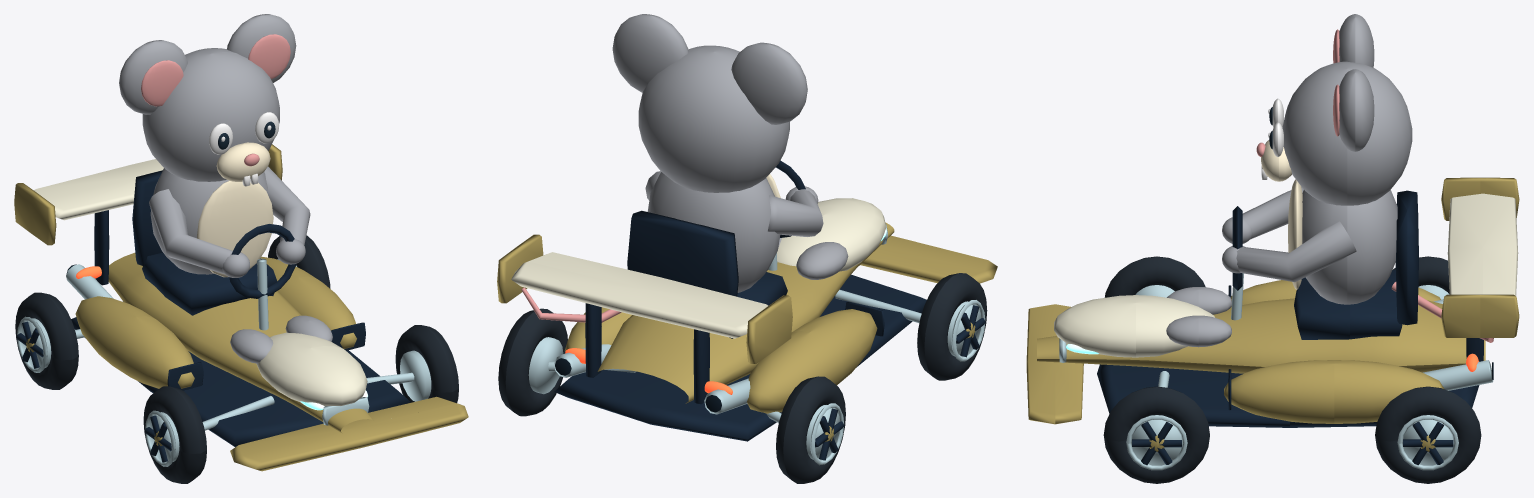
Rendered from kart_tikus.glb.
3 renders of one model, left to right at view 1: azimuth 30°, elevation 25°; view 2: azimuth 150°, elevation 25°; view 3: azimuth 270°, elevation 25°, orthographic. The views are drawn at different scales.
Parts seen in each view (by area): view 1: chassis_enamel_rabbit, driver_fur_mouse, chassis_graphite, chassis_pearl_ivory, driver_cream, wheel_fl_spin_rubber, wheel_rl_spin_rubber, chassis_brushed_alloy, driver_inner_ear, wheel_fr_spin_rubber, wheel_fr_spin_brushed_alloy, driver_eye_glint (+5 smaller); view 2: driver_fur_mouse, chassis_enamel_rabbit, chassis_graphite, chassis_pearl_ivory, wheel_rl_spin_rubber, wheel_fl_spin_rubber, wheel_rr_spin_rubber, chassis_brushed_alloy, wheel_rr_spin_brushed_alloy, wheel_fl_spin_brushed_alloy, wheel_rl_spin_brushed_alloy, wheel_fl_spin_graphite (+2 smaller); view 3: chassis_enamel_rabbit, driver_fur_mouse, chassis_graphite, chassis_pearl_ivory, wheel_rr_spin_rubber, wheel_fr_spin_rubber, wheel_fl_spin_rubber, chassis_brushed_alloy, wheel_fr_spin_brushed_alloy, wheel_rr_spin_brushed_alloy, driver_cream, driver_inner_ear (+4 smaller).
Boxes of the visible parts, box(x1,y1,x2,y2) form: chassis_enamel_rabbit: box(14, 144, 468, 471); driver_fur_mouse: box(119, 14, 332, 363); chassis_graphite: box(71, 170, 410, 447); chassis_pearl_ivory: box(34, 159, 367, 406); driver_cream: box(197, 142, 273, 277); wheel_fl_spin_rubber: box(143, 386, 206, 483); wheel_rl_spin_rubber: box(15, 292, 78, 389); chassis_brushed_alloy: box(66, 258, 414, 430); driver_inner_ear: box(141, 34, 290, 166); wheel_fr_spin_rubber: box(395, 325, 458, 402); wheel_fr_spin_brushed_alloy: box(400, 350, 431, 401); driver_eye_glint: box(209, 112, 279, 186); driver_fur_mouse: box(612, 14, 848, 292); chassis_enamel_rabbit: box(497, 222, 997, 413); chassis_graphite: box(554, 160, 926, 441); chassis_pearl_ivory: box(511, 198, 886, 338); wheel_rl_spin_rubber: box(776, 376, 845, 483); wheel_fl_spin_rubber: box(917, 273, 987, 380); wheel_rr_spin_rubber: box(498, 308, 567, 416); chassis_brushed_alloy: box(548, 224, 921, 423); wheel_rr_spin_brushed_alloy: box(528, 337, 563, 394); wheel_fl_spin_brushed_alloy: box(947, 300, 985, 361); wheel_rl_spin_brushed_alloy: box(806, 403, 843, 465); wheel_fl_spin_graphite: box(956, 305, 985, 357); chassis_enamel_rabbit: box(1026, 177, 1519, 424); driver_fur_mouse: box(1166, 14, 1412, 347); chassis_graphite: box(1097, 190, 1483, 427); chassis_pearl_ivory: box(1054, 193, 1518, 357); wheel_rr_spin_rubber: box(1375, 386, 1481, 483); wheel_fr_spin_rubber: box(1103, 386, 1209, 483); wheel_fl_spin_rubber: box(1104, 256, 1205, 297); chassis_brushed_alloy: box(1059, 273, 1493, 390); wheel_fr_spin_brushed_alloy: box(1126, 415, 1187, 470); wheel_rr_spin_brushed_alloy: box(1397, 415, 1458, 470); driver_cream: box(1261, 140, 1302, 289); driver_inner_ear: box(1256, 29, 1493, 342).
Size of the model in its own units: 1.36 by 1.58 by 1.89.
